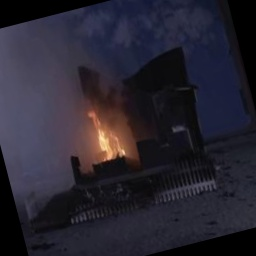fire: (74, 94, 137, 167)
smoke: (0, 18, 73, 157)
